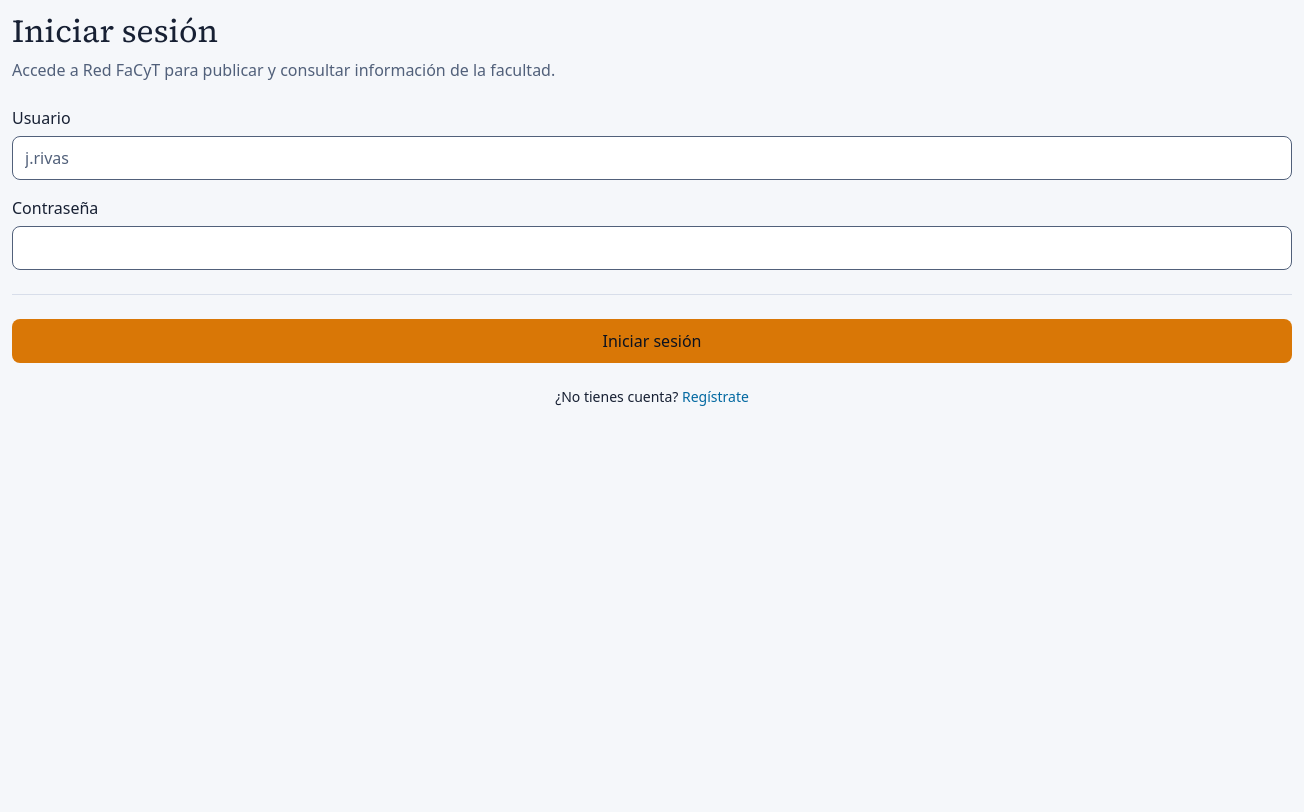
it: LoginForm › validates fields on submit and shows inline and summary errors
Click the button "Iniciar sesión".
click(652, 341)  # box [12,319,1292,363]
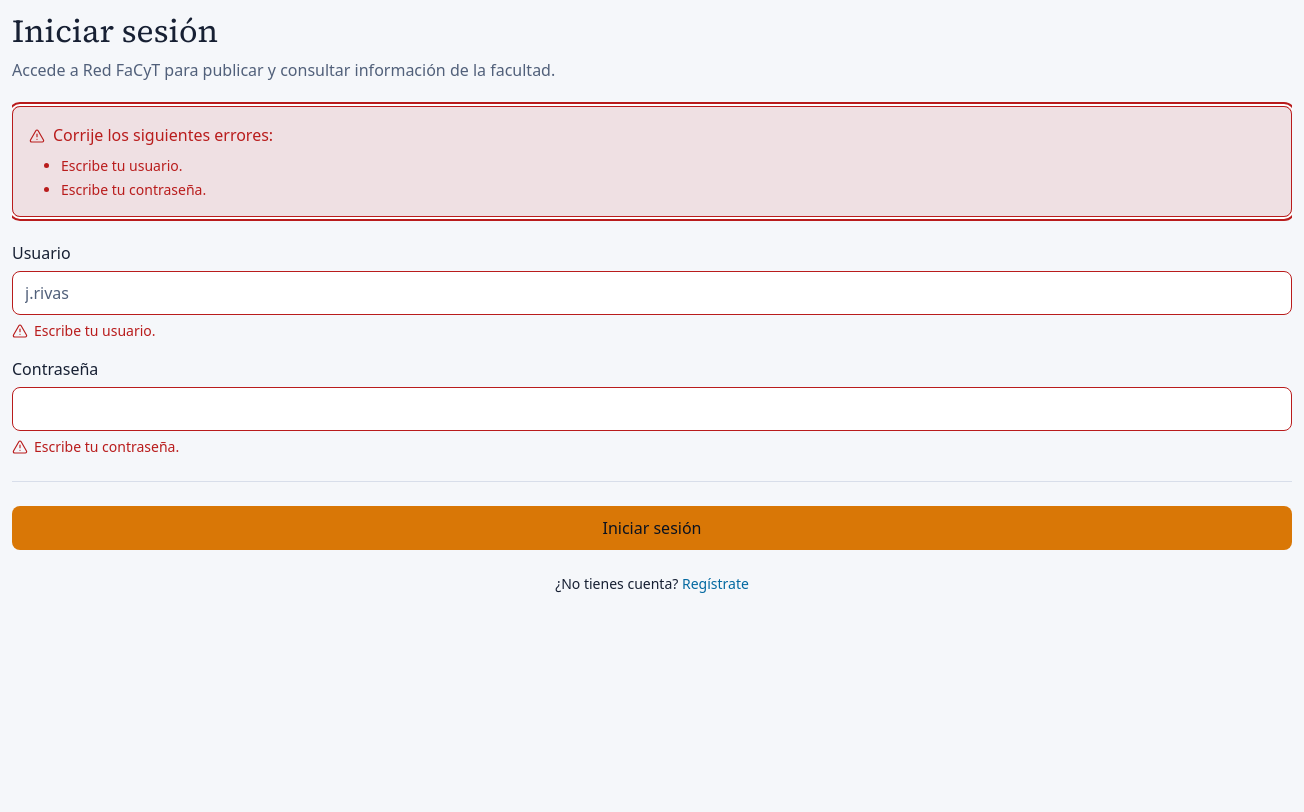
Check: the button "Escribe tu usuario." is shown, box [61,156,183,176]
Check: the button "Escribe tu contraseña." is shown, box [61,180,206,200]
Check: the message "Corrije los siguientes errores: Escribe tu usuario. Escribe tu contraseña." is shown, box [12,106,1292,217]
